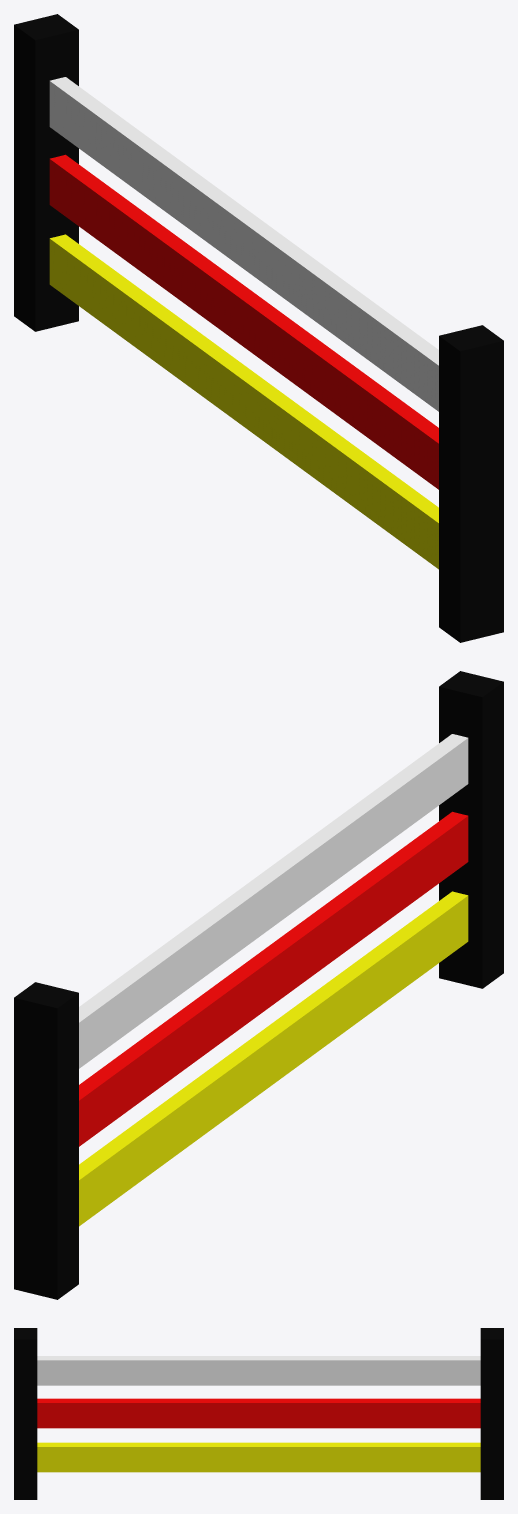
The model's file is barrier1.FBX.
3 views of the same model, one above another, from view 1: azimuth 30°, elevation 25°; view 2: azimuth 150°, elevation 25°; view 3: azimuth 270°, elevation 25° (orthographic). The views are drawn at different scales.
Parts seen in each view (by area): view 1: Box004; view 2: Box004; view 3: Box004.
Boxes of the visible parts, box(x1,y1,x2,y2) form: Box004: box(14, 14, 503, 642); Box004: box(14, 671, 503, 1299); Box004: box(14, 1328, 503, 1499).
Bounding box in the file's own units: 5.06 × 32.25 × 89.48.
